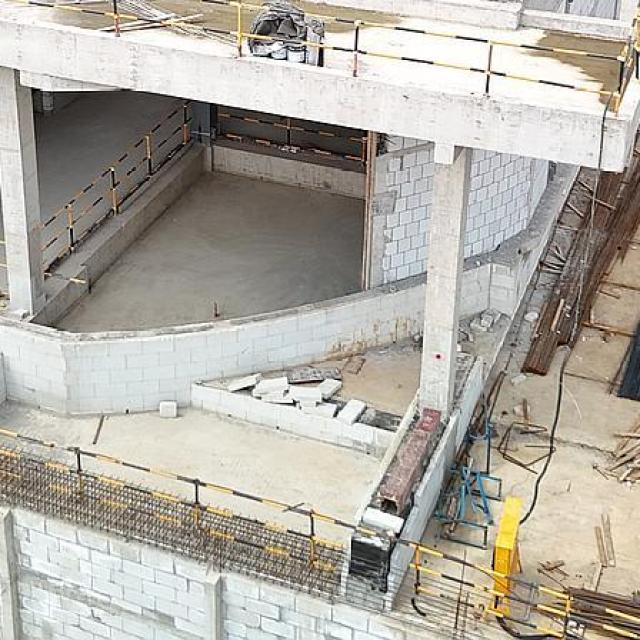edge_guardrail: (0, 424, 640, 640), (2, 0, 639, 114), (40, 100, 193, 274), (215, 112, 368, 164)
